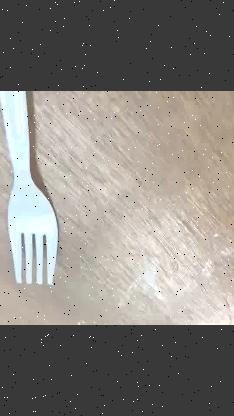Others: (0, 91, 58, 285)
